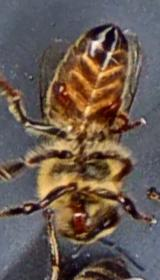varroa_mite: (49, 75, 78, 106)
